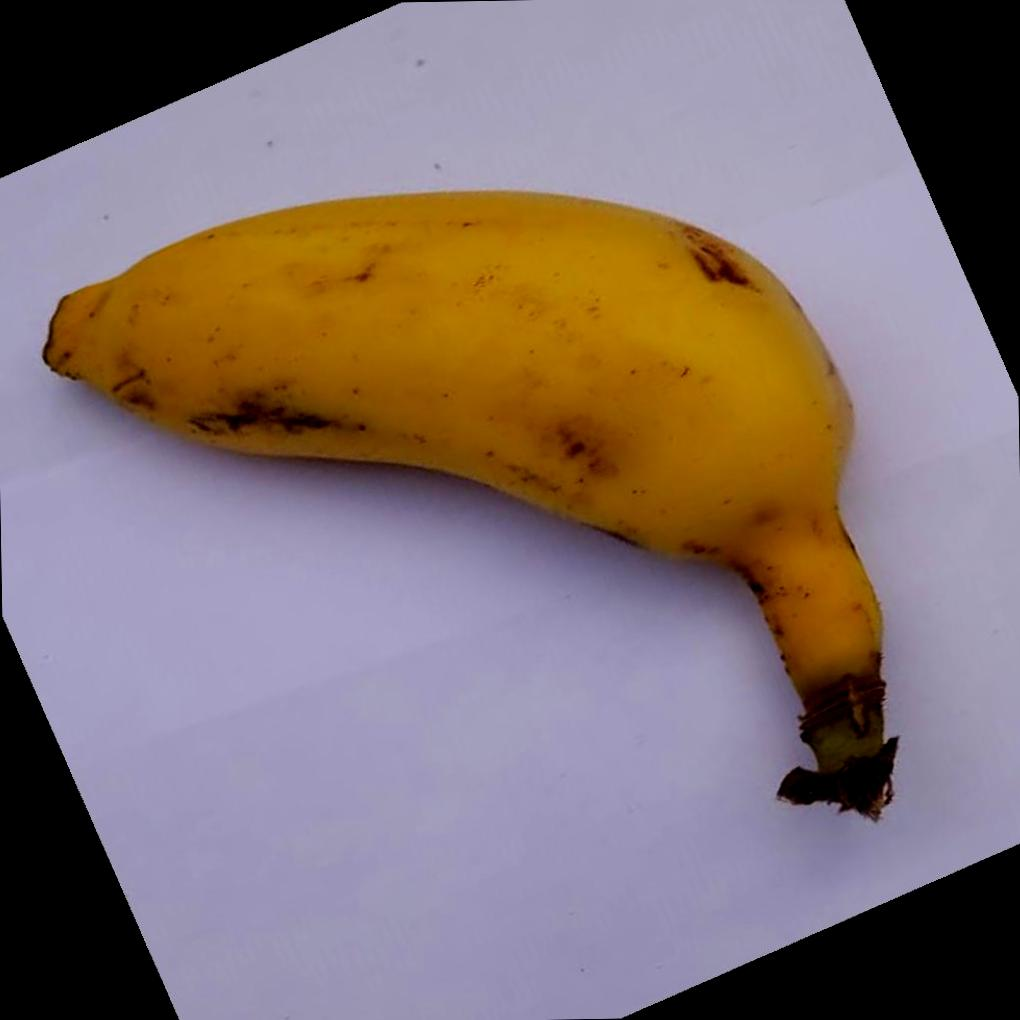Banana Ripe: (42, 160, 917, 861)
